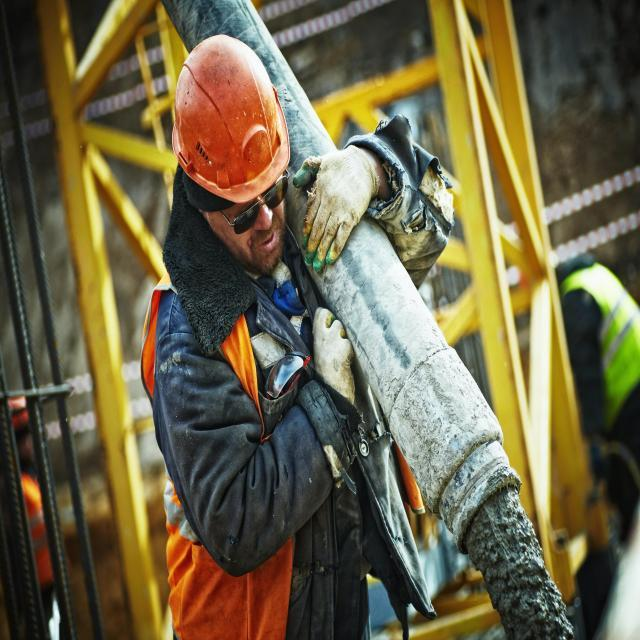reflective_jacket: (145, 247, 302, 639), (557, 260, 639, 440)
safety_helmet: (167, 31, 289, 200)
